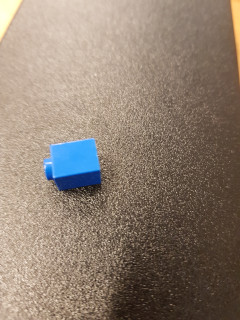1x1 blue: (41, 136, 104, 193)
